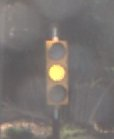Yellow: (43, 36, 73, 118)
